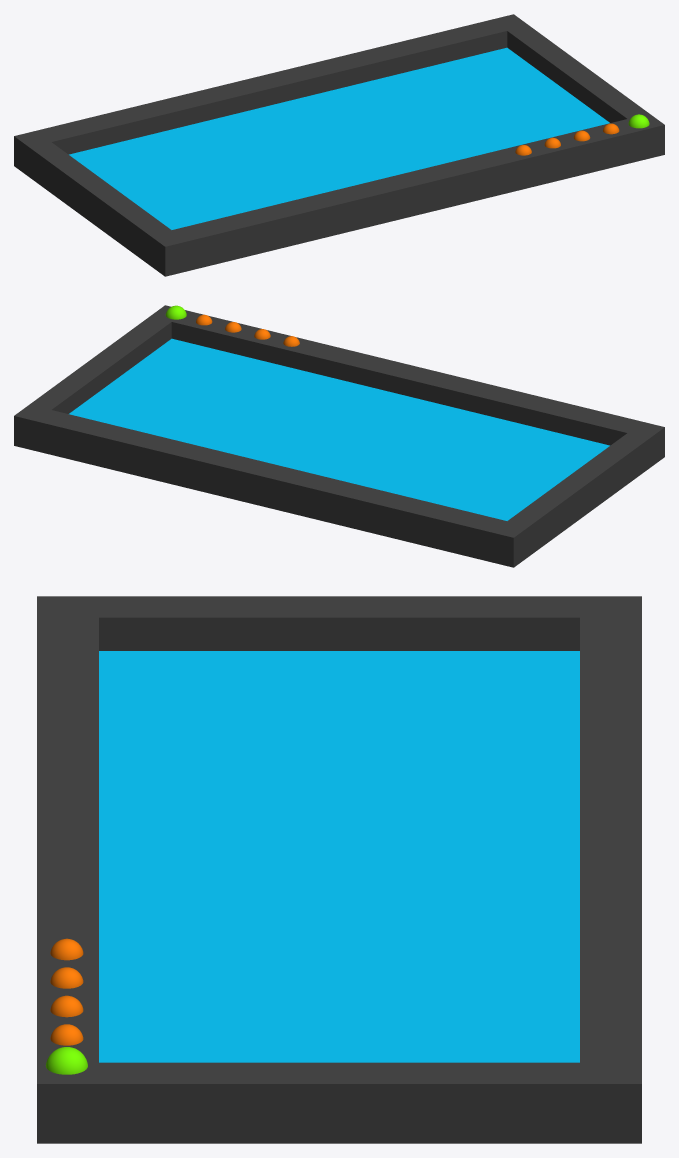
File: Pantalla.fbx
3 views of the same model, one above another, from view 1: azimuth 30°, elevation 25°; view 2: azimuth 150°, elevation 25°; view 3: azimuth 270°, elevation 25° (orthographic). The views are drawn at different scales.
Visible parts, largest first — view 1: Cube, Sphere; view 2: Cube, Sphere; view 3: Cube, Sphere, Sphere.001.
Boxes of the visible parts, x1=… form: Cube: x1=14, y1=14, x2=664, y2=276; Sphere: x1=515, y1=123, x2=619, y2=155; Cube: x1=14, y1=305, x2=664, y2=567; Sphere: x1=196, y1=314, x2=299, y2=346; Cube: x1=37, y1=596, x2=641, y2=1143; Sphere: x1=50, y1=938, x2=83, y2=1045; Sphere.001: x1=45, y1=1047, x2=87, y2=1074.
Size of the model in its own units: 382 by 28.07 by 200.
